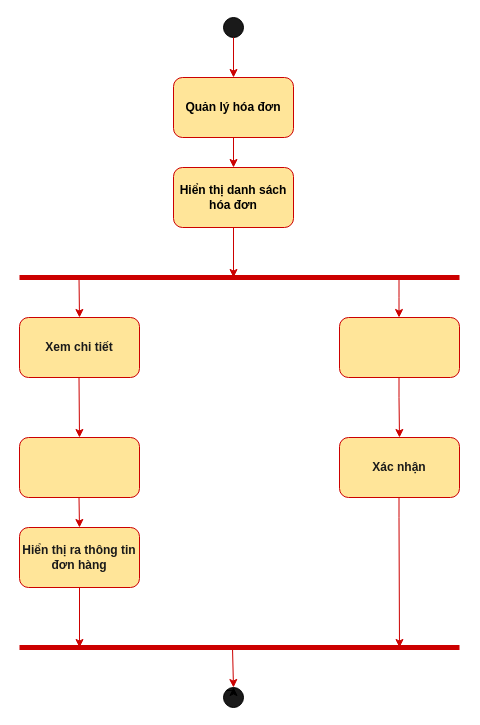
Some shapes in this 480 by 725 pixel diagram are drawn without their labels. Each missing label, with the centre of its shape:
Click vào biểu tượng xem chi tiết: point 79,467
Click vào đặt hàng: point 399,347
